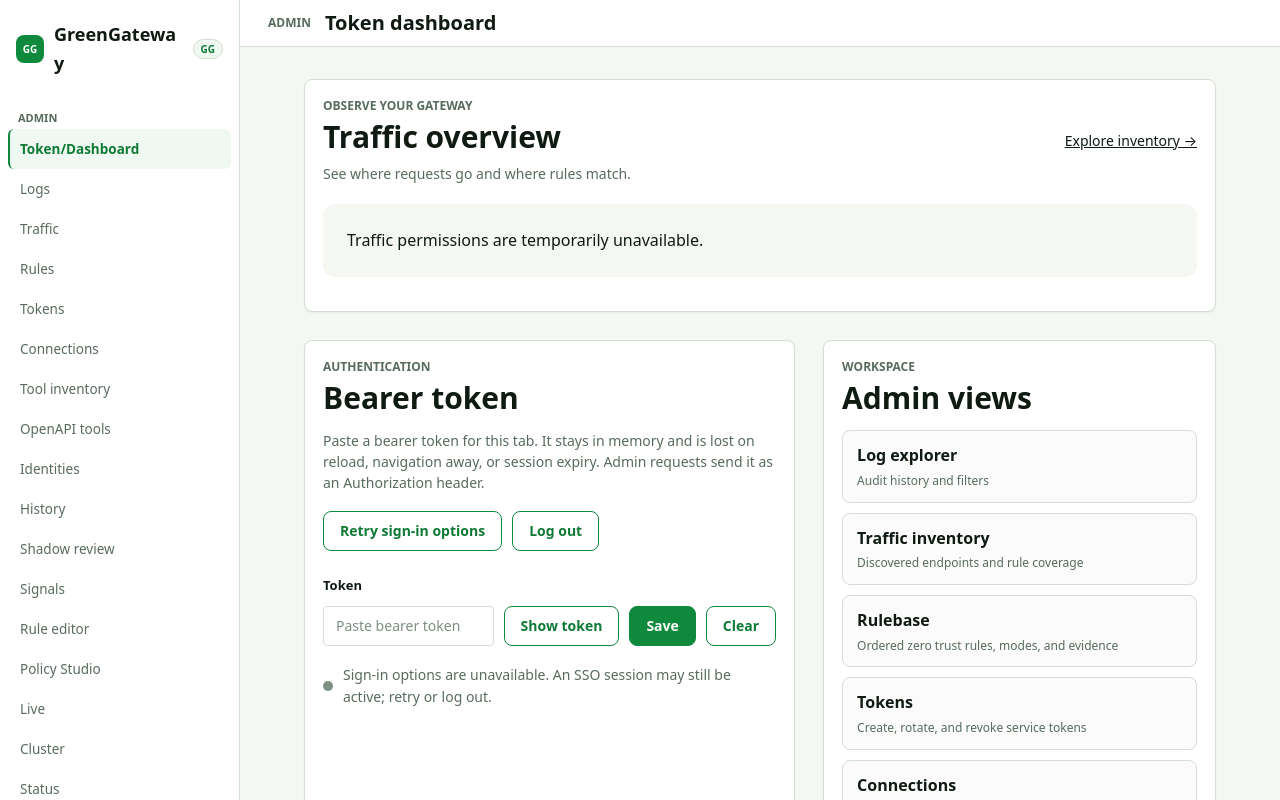
Scenario: AdminShell › offers retry and log out when session discovery is unavailable
Expected: the button "Log out" is shown, left=512, top=511, right=599, bottom=551
Expected: the text "Sign-in options are unavailable. An SSO session may still be active; retry or log out." is shown, left=343, top=665, right=731, bottom=706
Step 1. Click the button "Retry sign-in options" → (413, 531), box left=323, top=511, right=502, bottom=551
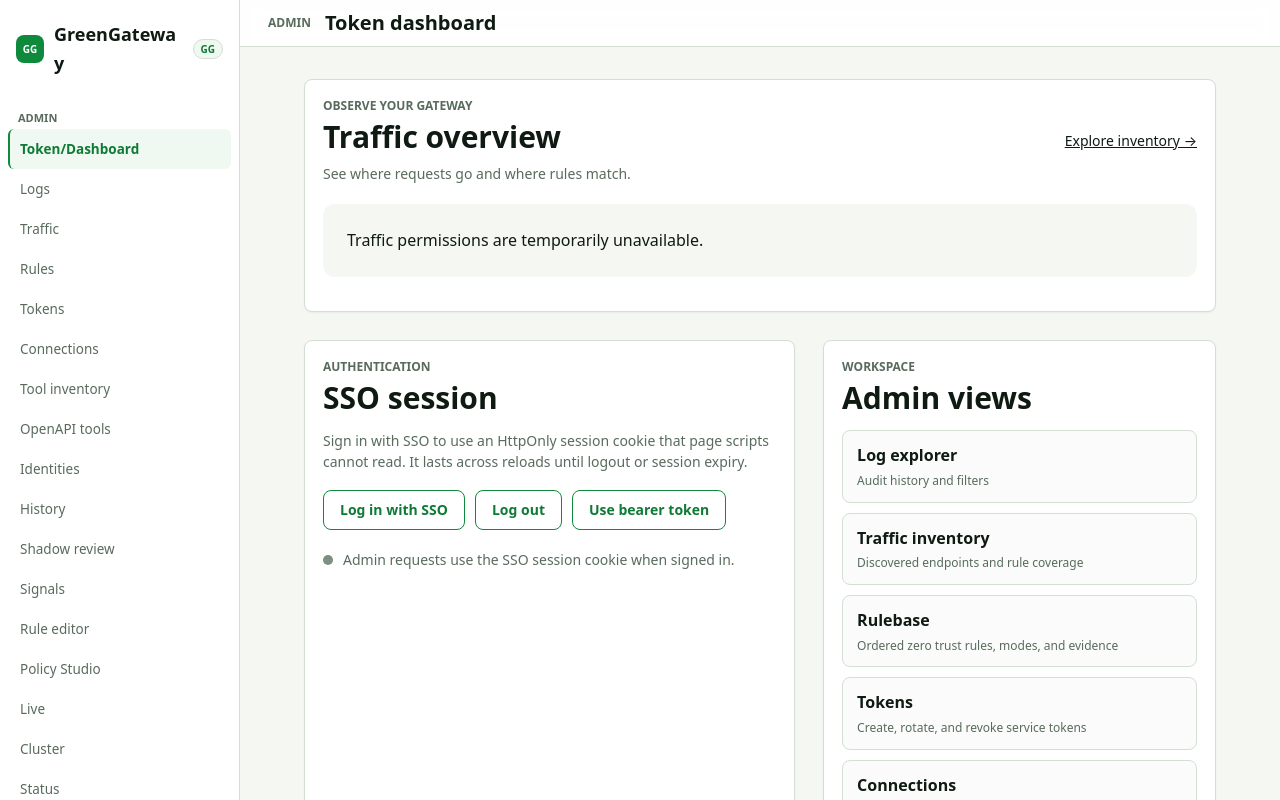
Expected: the button "Log out" is shown, left=475, top=490, right=562, bottom=530
Now the heading "SSO session" is shown, box left=323, top=377, right=498, bottom=418
Now the button "Retry sign-in options" is gone
